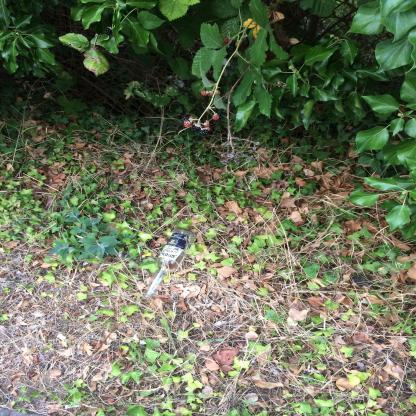cam: (144, 229, 198, 301)
